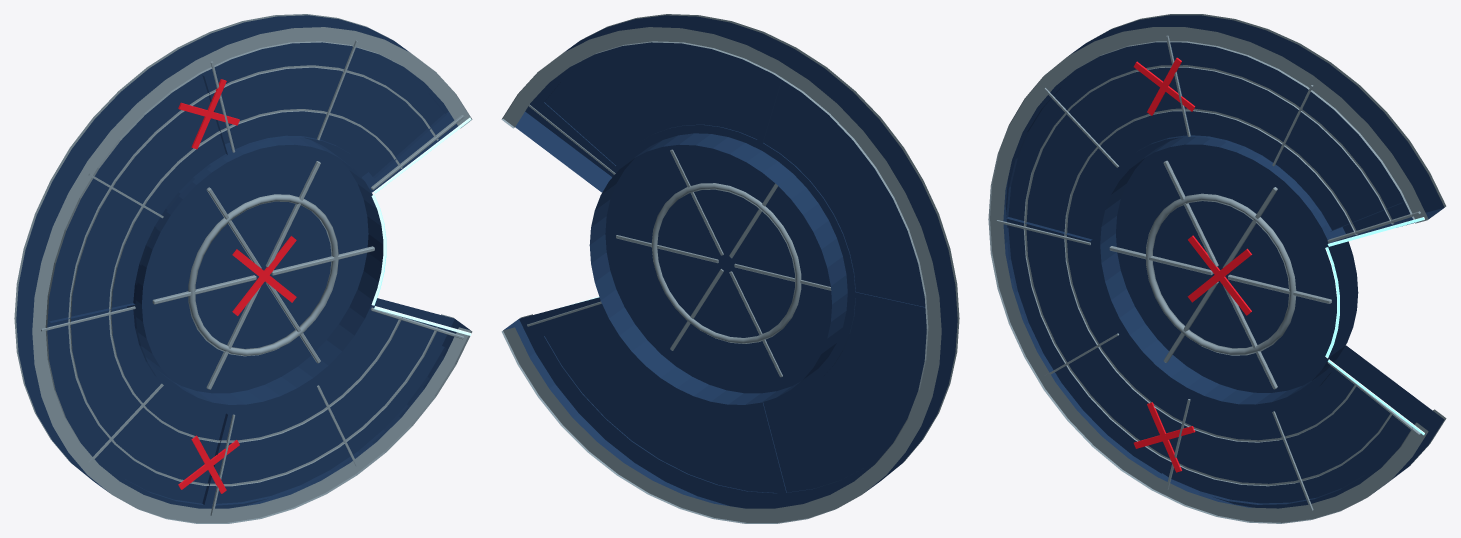
Rendered from foundry-panel-fun7-medium.glb.
3 views of the same model, side by side, from view 1: azimuth 30°, elevation 25°; view 2: azimuth 150°, elevation 25°; view 3: azimuth 330°, elevation 25° (orthographic).
Visible parts, largest first — view 1: RENDER_PANEL_SHELL, RENDER_PANEL_FRAME, RENDER_PANEL_HAZARD, RENDER_PANEL_SIGNAL; view 2: RENDER_PANEL_SHELL, RENDER_PANEL_FRAME; view 3: RENDER_PANEL_SHELL, RENDER_PANEL_FRAME, RENDER_PANEL_HAZARD, RENDER_PANEL_SIGNAL.
Boxes of the visible parts, box(x1,y1,x2,y2) form: RENDER_PANEL_SHELL: box(16, 15, 470, 508); RENDER_PANEL_FRAME: box(14, 14, 472, 523); RENDER_PANEL_HAZARD: box(178, 79, 296, 493); RENDER_PANEL_SIGNAL: box(371, 117, 471, 335); RENDER_PANEL_SHELL: box(503, 15, 957, 508); RENDER_PANEL_FRAME: box(501, 14, 959, 523); RENDER_PANEL_SHELL: box(1003, 15, 1444, 508); RENDER_PANEL_FRAME: box(988, 14, 1446, 523); RENDER_PANEL_HAZARD: box(1133, 57, 1251, 472); RENDER_PANEL_SIGNAL: box(1325, 217, 1424, 435).
Size of what is drawn, in the model's own units: 38.92 by 41 by 3.09.
